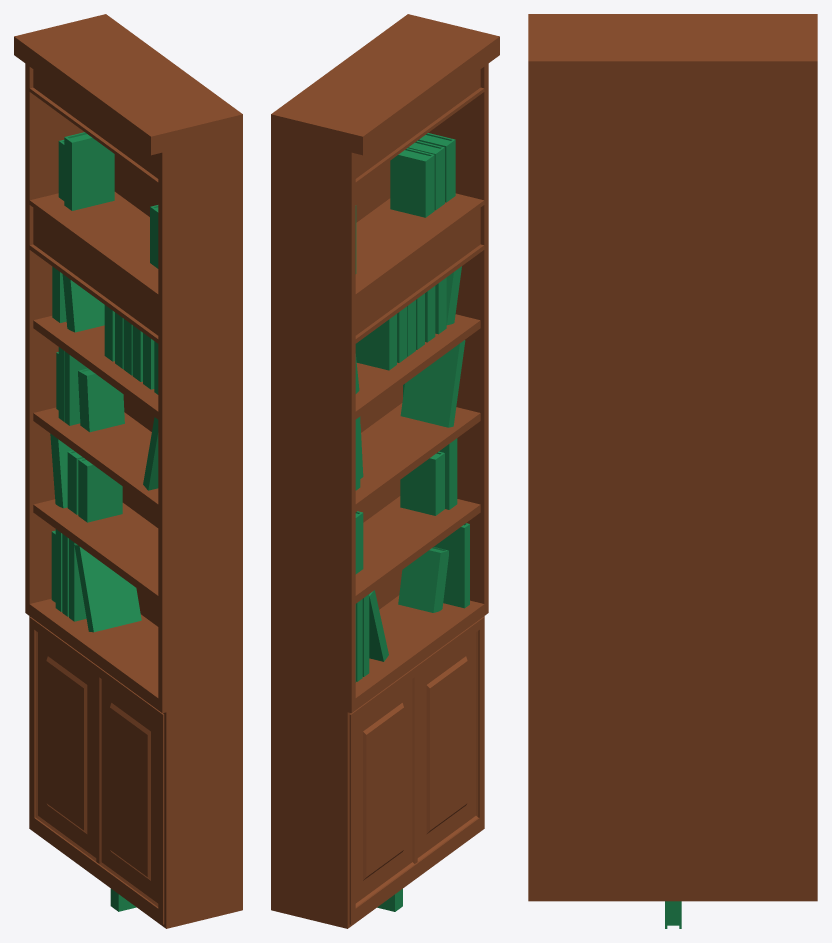
Rendered from S_Biblio.glb.
3 views of the same model, side by side, from view 1: azimuth 30°, elevation 25°; view 2: azimuth 150°, elevation 25°; view 3: azimuth 270°, elevation 25° (orthographic). The views are drawn at different scales.
Parts seen in each view (by area): view 1: S_Biblio, S_BiblioPlateau, S_BookBaseBigV3.002, S_BookBaseMediumV3.002, S_BookBaseSmallV2.002, S_BookBaseSmallV1.004, S_BookBaseMediumV1.007, S_BookBaseBigV2.001, S_BookBaseMediumV2.001, S_BookBaseBigV3.005, S_BookBaseBigV1.002, S_BookBaseSmallV1.003 (+9 smaller); view 2: S_Biblio, S_BiblioPlateau, S_BookBaseBigV1.002, S_BookBaseSmallV3.004, S_BookBaseSmallV2.001, S_BookBaseSmallV1.001, S_BookBaseBigV1.001, S_BookBaseMediumV1.005, S_BookBaseBigV3.002, S_BookBaseSmallV3.001, S_BookBaseSmallV3.003, S_BookBaseMediumV3.001 (+7 smaller); view 3: S_Biblio.
Part boxes in pixels (left/top/right/bottom): S_Biblio: left=14, top=14, right=242, bottom=928; S_BiblioPlateau: left=29, top=69, right=158, bottom=603; S_BookBaseBigV3.002: left=74, top=544, right=141, bottom=632; S_BookBaseMediumV3.002: left=64, top=132, right=114, bottom=210; S_BookBaseSmallV2.002: left=78, top=368, right=124, bottom=432; S_BookBaseSmallV1.004: left=78, top=458, right=122, bottom=522; S_BookBaseMediumV1.007: left=62, top=274, right=104, bottom=332; S_BookBaseBigV2.001: left=64, top=351, right=87, bottom=425; S_BookBaseMediumV2.001: left=50, top=433, right=72, bottom=508; S_BookBaseBigV3.005: left=69, top=539, right=86, bottom=621; S_BookBaseBigV1.002: left=143, top=417, right=158, bottom=490; S_BookBaseSmallV1.003: left=67, top=450, right=83, bottom=514; S_Biblio: left=271, top=14, right=499, bottom=928; S_BiblioPlateau: left=355, top=69, right=484, bottom=603; S_BookBaseBigV1.002: left=400, top=340, right=465, bottom=427; S_BookBaseSmallV3.004: left=390, top=148, right=434, bottom=217; S_BookBaseSmallV2.001: left=398, top=547, right=448, bottom=612; S_BookBaseSmallV1.001: left=400, top=451, right=444, bottom=515; S_BookBaseBigV1.001: left=434, top=523, right=469, bottom=608; S_BookBaseMediumV1.005: left=355, top=314, right=396, bottom=370; S_BookBaseBigV3.002: left=369, top=590, right=388, bottom=661; S_BookBaseSmallV3.001: left=418, top=133, right=455, bottom=202; S_BookBaseSmallV3.003: left=408, top=140, right=444, bottom=210; S_BookBaseMediumV3.001: left=439, top=438, right=457, bottom=509; S_Biblio: left=528, top=14, right=817, bottom=901.
Size of the model in its own units: 0.2598 by 2.24 by 0.6701.
